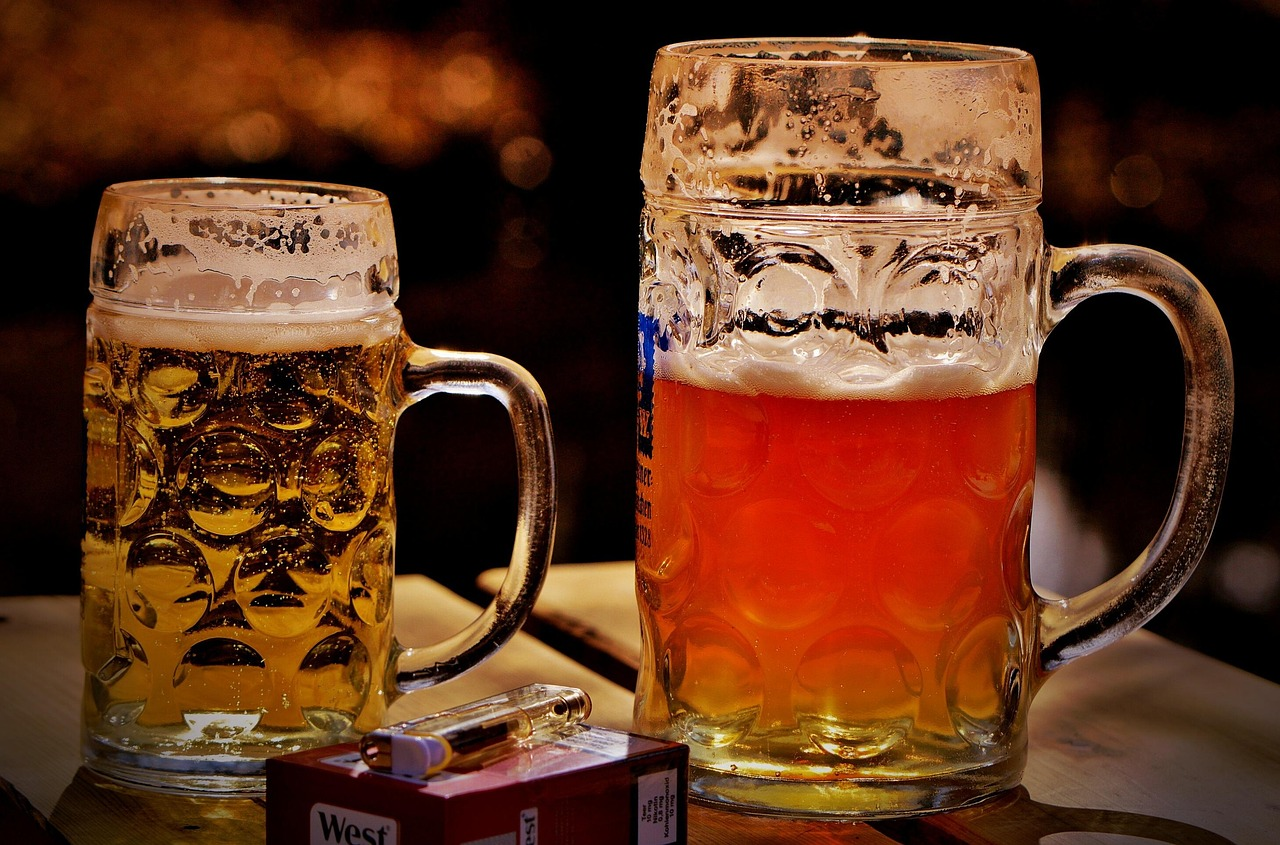mug: (595, 25, 1246, 816)
